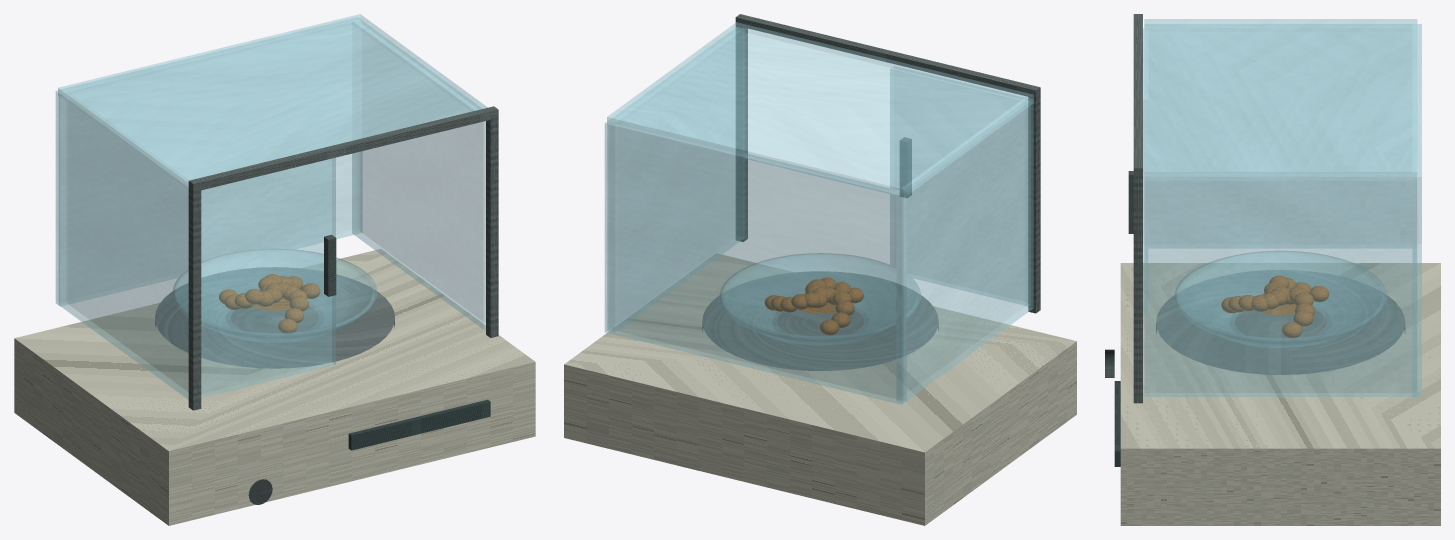
The model's file is alat-12.glb.
3 renders of one model, left to right at view 1: azimuth 30°, elevation 25°; view 2: azimuth 150°, elevation 25°; view 3: azimuth 270°, elevation 25°, orthographic. The views are drawn at different scales.
Parts seen in each view (by area): view 1: box-0, box-4, box-7, box-5, balanceDoor-8, box-6, cylinder-3, watchGlass-13, box-11, box-9, box-10, display-1 (+1 smaller); view 2: box-0, box-4, box-7, box-5, box-6, balanceDoor-8, cylinder-3, watchGlass-13, box-11, box-9, box-10, balanceHandle-12; view 3: box-0, box-6, box-5, box-7, cylinder-3, watchGlass-13, box-4, box-10, box-11, balanceDoor-8, display-1.
Part boxes in pixels (<box>): box-0: <box>14,249,535,525</box>; box-4: <box>55,17,362,306</box>; box-7: <box>58,14,487,191</box>; box-5: <box>59,91,188,399</box>; balanceDoor-8: <box>201,157,335,397</box>; box-6: <box>352,19,485,329</box>; cylinder-3: <box>155,267,394,368</box>; watchGlass-13: <box>173,249,377,342</box>; box-11: <box>188,106,498,192</box>; box-9: <box>188,184,201,410</box>; box-10: <box>486,113,498,337</box>; display-1: <box>348,399,490,450</box>; box-0: <box>564,253,1076,525</box>; box-4: <box>604,120,906,404</box>; box-7: <box>607,22,1033,197</box>; box-5: <box>896,97,1033,402</box>; box-6: <box>607,27,744,332</box>; balanceDoor-8: <box>890,66,1030,306</box>; cylinder-3: <box>702,271,938,371</box>; watchGlass-13: <box>720,253,920,345</box>; box-11: <box>735,14,1040,96</box>; box-9: <box>1028,91,1040,313</box>; box-10: <box>735,21,747,241</box>; balanceHandle-12: <box>900,137,911,197</box>; box-0: <box>1120,263,1440,525</box>; box-6: <box>1144,173,1416,396</box>; box-5: <box>1144,24,1416,248</box>; box-7: <box>1144,19,1417,180</box>; cylinder-3: <box>1156,270,1405,374</box>; watchGlass-13: <box>1175,251,1386,347</box>; box-4: <box>1412,24,1421,397</box>; box-10: <box>1133,172,1142,403</box>; box-11: <box>1133,14,1142,175</box>; balanceDoor-8: <box>1143,28,1147,314</box>; display-1: <box>1114,381,1120,466</box>.
Size of the model in its own units: 3.7 by 3.18 by 2.83.
37 materials, 37 textured.
